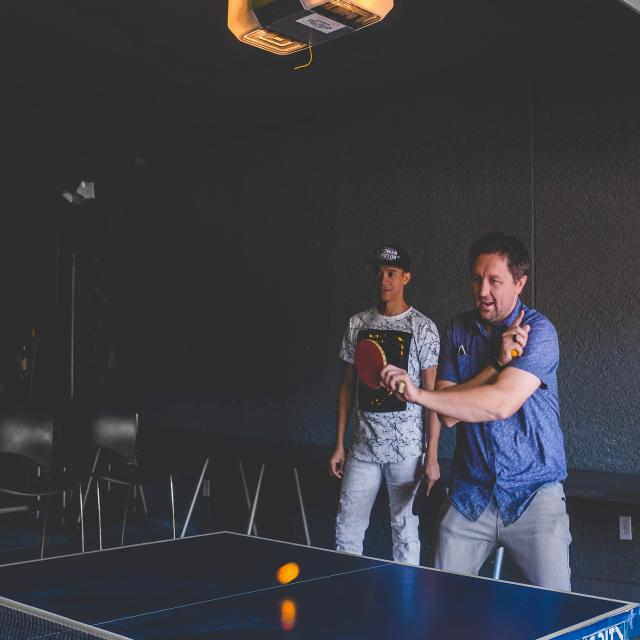adult: (380, 232, 573, 588), (330, 237, 435, 558)
